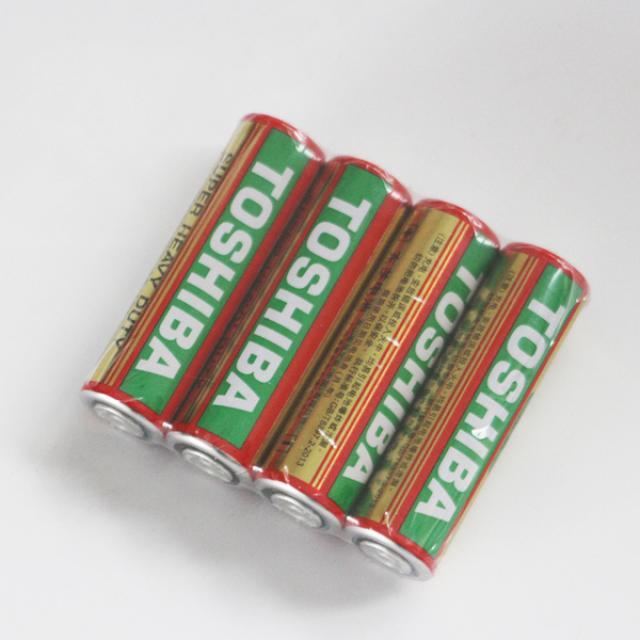hazardous waste: (82, 103, 341, 443), (169, 149, 420, 488), (350, 238, 595, 580), (256, 197, 504, 529)
